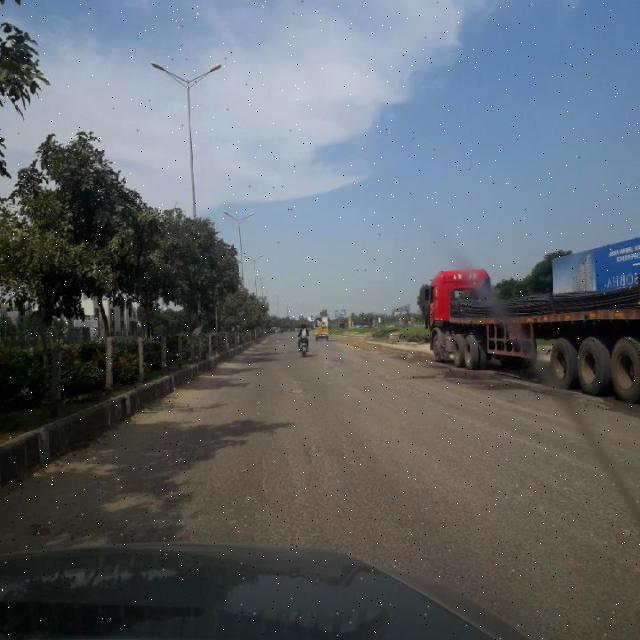D20: (172, 380, 602, 580)
D40: (282, 377, 314, 403), (302, 439, 332, 465)
